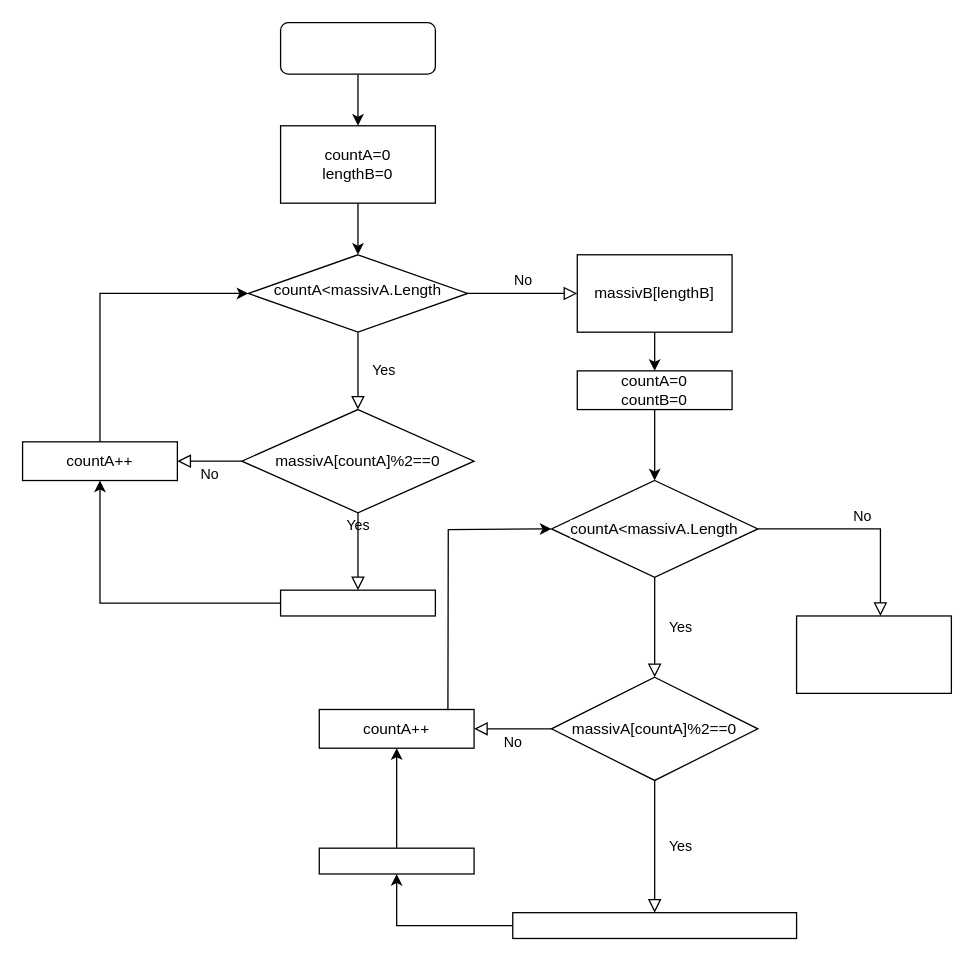
This 974x961 diagram has some shape labels left out. Here are the shapes that lost their labels. From the top down, the centre of each, then its label:
At (357,47): "massivA[10]".
At (357,602): "lengthB++".
At (873,654): "Print massivB[ ]".
At (396,860): "countB++".
At (654,924): "massivB[countB]= massivA[countA]".
